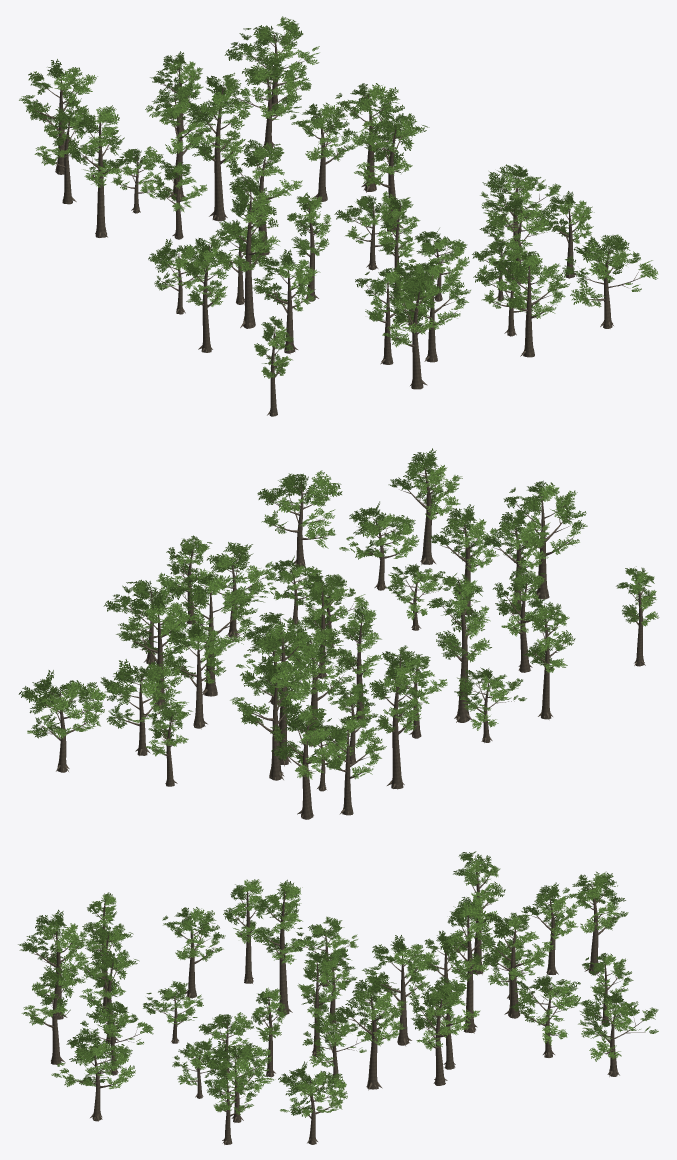
Rendered from Canopy_09_14.glb.
The picture shows the model from 3 angles, top to bottom: view 1: azimuth 30°, elevation 25°; view 2: azimuth 150°, elevation 25°; view 3: azimuth 270°, elevation 25°; orthographic projection. The views are drawn at different scales.
Visible parts, largest first — view 1: Canopy_09_14; view 2: Canopy_09_14; view 3: Canopy_09_14.
Part boxes in pixels (left/top/right/bottom): Canopy_09_14: left=19, top=16, right=658, bottom=416; Canopy_09_14: left=18, top=448, right=659, bottom=819; Canopy_09_14: left=18, top=851, right=658, bottom=1144.
Bounding box in the file's own units: 72.46 × 27.41 × 105.
Materials: 2 (2 with a texture image).
